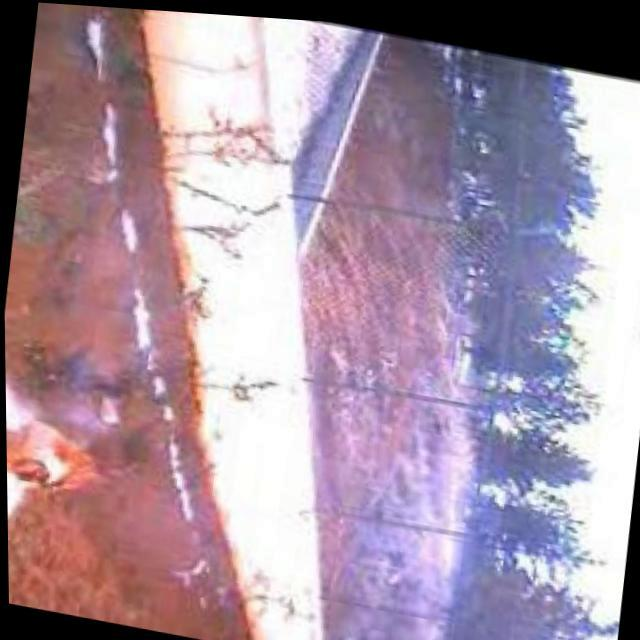fire: (5, 410, 119, 504)
